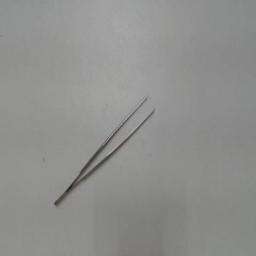Gillies Toothed Dissector: (52, 91, 160, 211)
